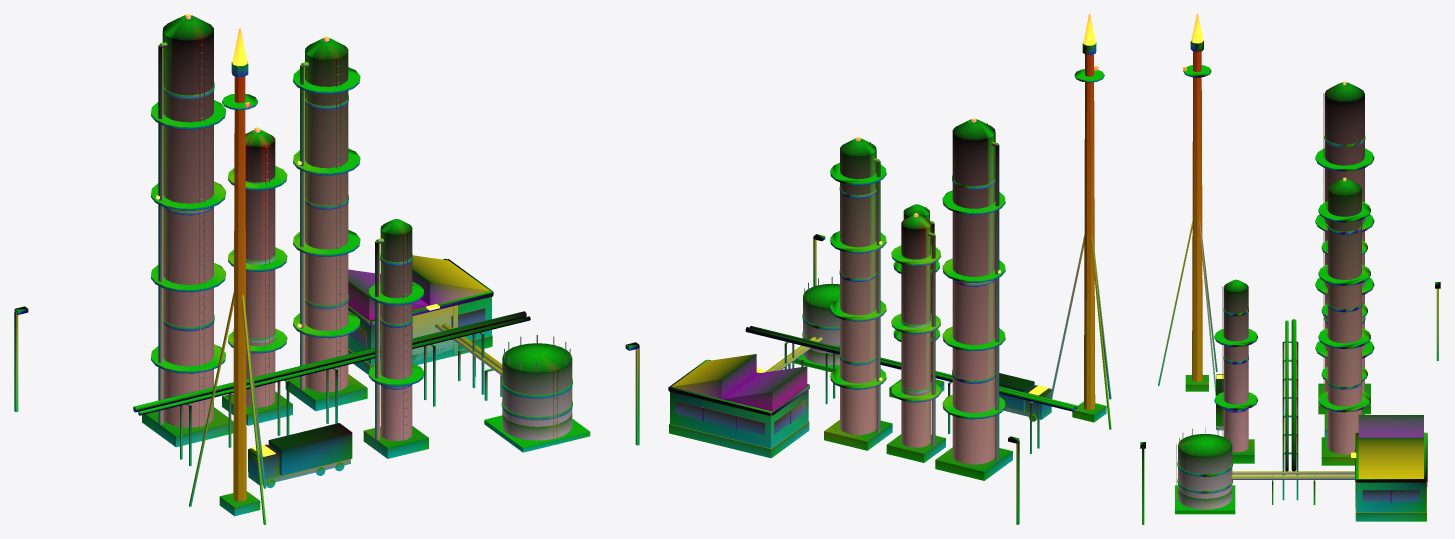
File: Ind_Refinery.fbx
3 renders of one model, left to right at view 1: azimuth 30°, elevation 25°; view 2: azimuth 150°, elevation 25°; view 3: azimuth 270°, elevation 25°, orthographic. The views are drawn at different scales.
Visible parts, largest first — view 1: Ind_Refinery_LOD0; view 2: Ind_Refinery_LOD0; view 3: Ind_Refinery_LOD0.
Boxes of the visible parts, x1,y1,x2,y2 form: Ind_Refinery_LOD0: (14, 14, 639, 524); Ind_Refinery_LOD0: (668, 14, 1111, 524); Ind_Refinery_LOD0: (1140, 14, 1440, 524).
Size of what is drawn, in the model's own units: 50.3 by 53 by 38.7.
